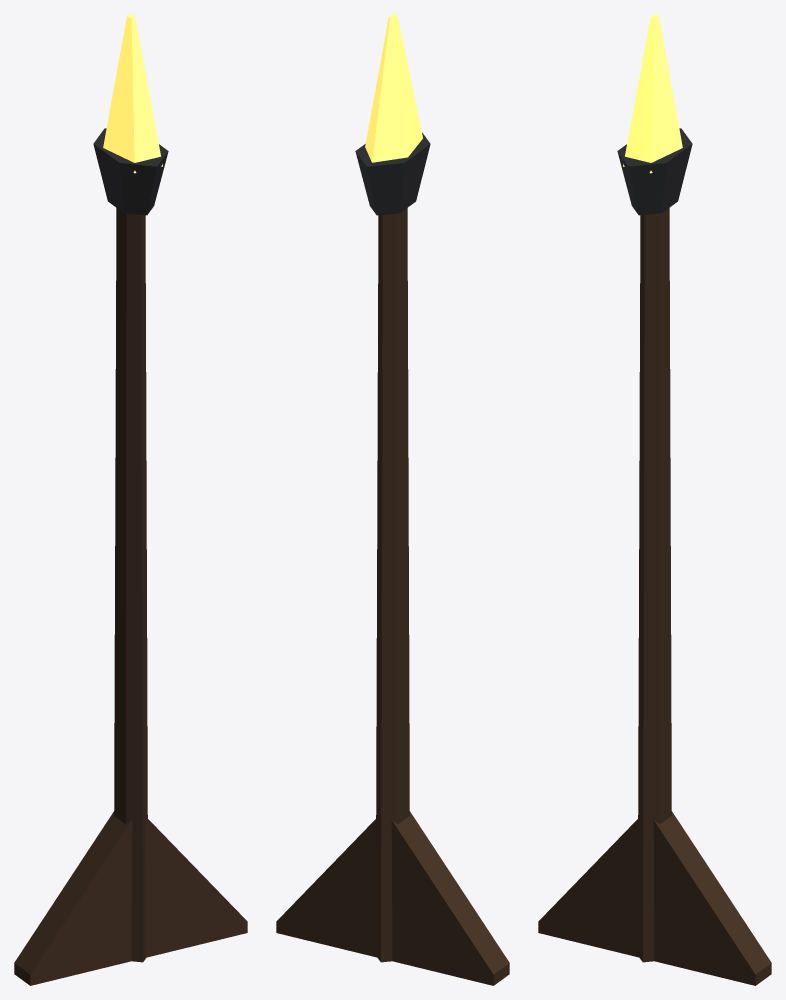
The model's file is SM_Mine_Torch_0.glb.
3 renders of one model, left to right at view 1: azimuth 30°, elevation 25°; view 2: azimuth 150°, elevation 25°; view 3: azimuth 330°, elevation 25°, orthographic.
Parts seen in each view (by area): view 1: SM_Mine_Torch_0; view 2: SM_Mine_Torch_0; view 3: SM_Mine_Torch_0.
Part boxes in pixels (x1,y1,x2,y2): SM_Mine_Torch_0: (14,14,247,985); SM_Mine_Torch_0: (276,14,509,985); SM_Mine_Torch_0: (538,14,771,985).
Bounding box in the file's own units: 0.616 × 2.54 × 0.258.
2 materials, 1 textured.
